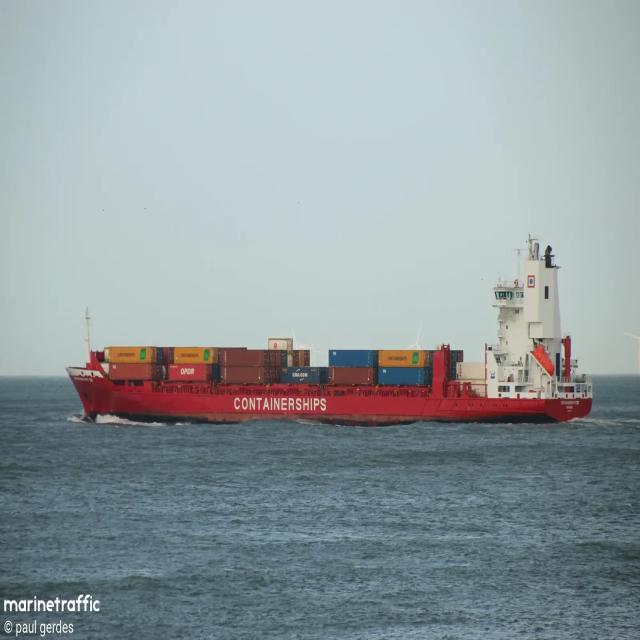Cargo: (66, 241, 592, 425)
